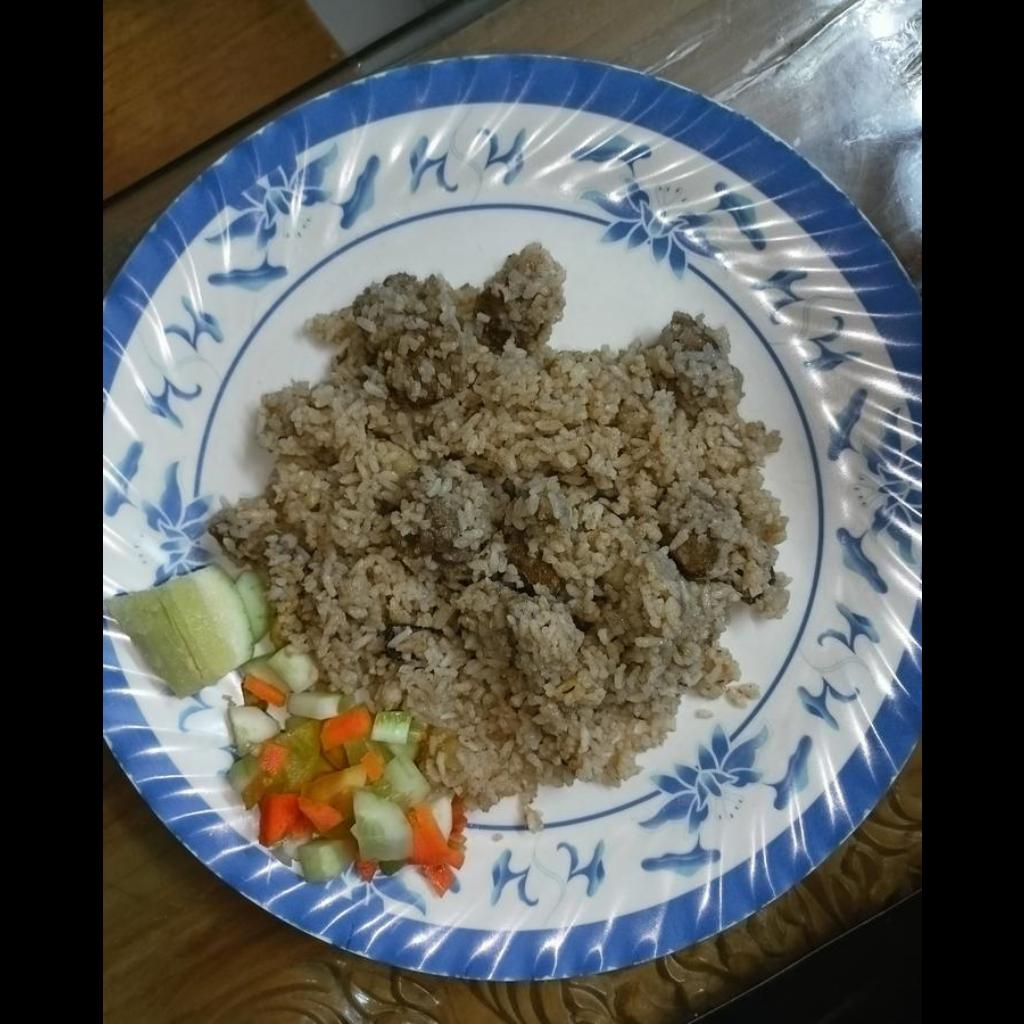biriyani: (214, 245, 787, 808)
salad: (108, 572, 462, 895)
